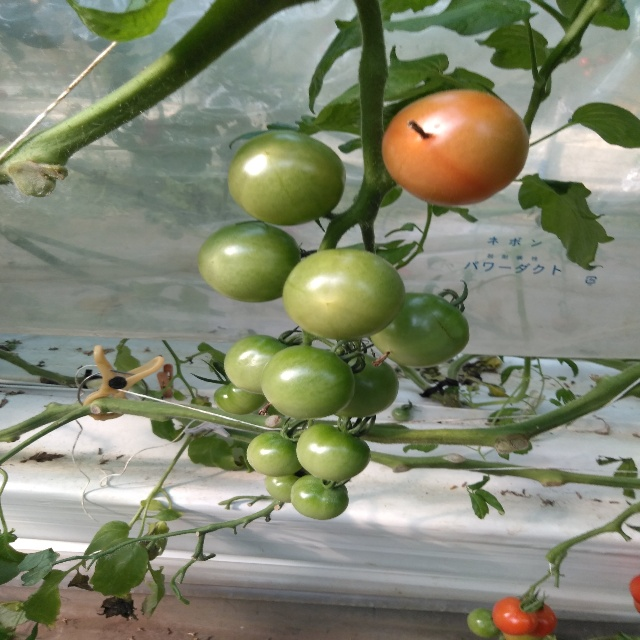l_fully_ripened: (492, 596, 538, 636), (527, 602, 557, 637)
l_green: (282, 247, 407, 340), (227, 130, 348, 226), (197, 222, 303, 303), (370, 292, 470, 368), (260, 345, 355, 419), (296, 423, 371, 482), (335, 353, 400, 418), (223, 335, 291, 395), (246, 431, 304, 477), (290, 476, 349, 520), (214, 382, 267, 415), (264, 467, 312, 502), (466, 607, 500, 638)
l_half_ripened: (380, 89, 530, 206)
